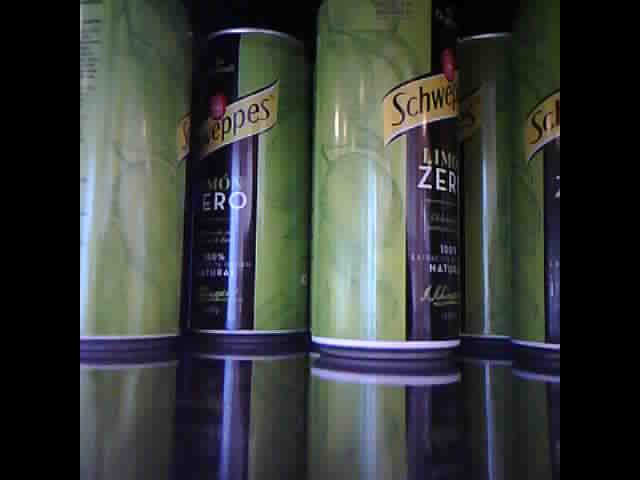schweppes: (309, 1, 464, 358), (80, 1, 186, 350), (193, 24, 306, 342), (509, 1, 560, 357), (466, 30, 514, 345)
